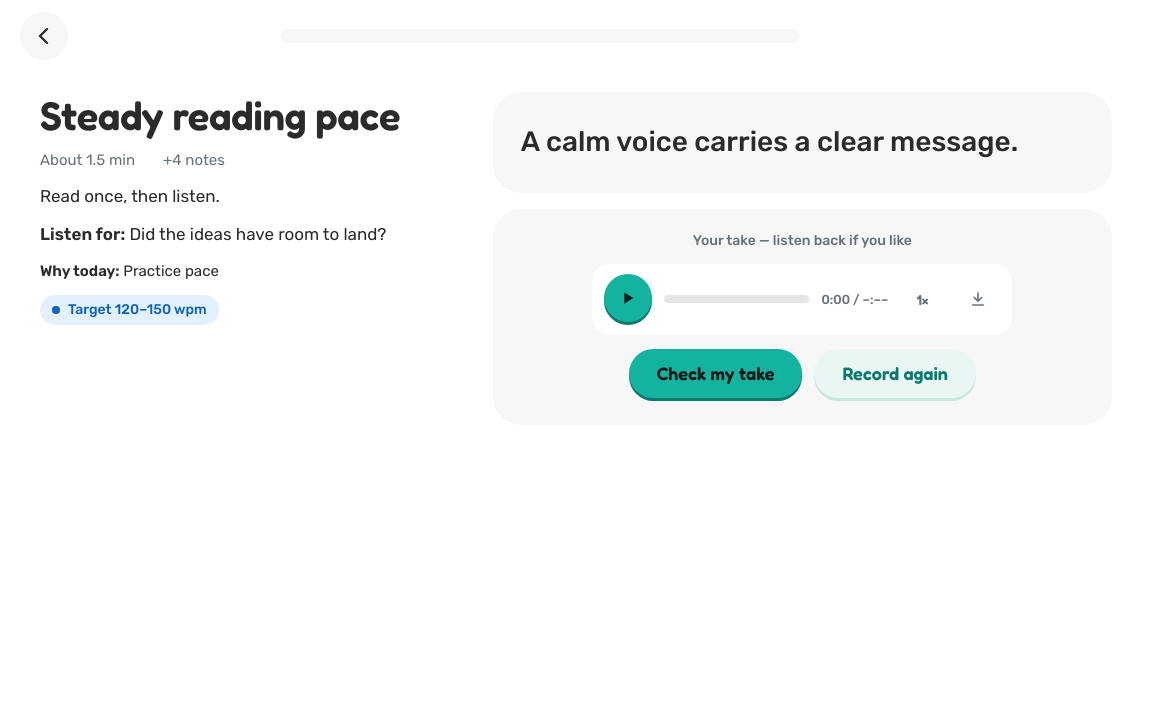
Scenario: a failed attempt submission reuses the checked take and idempotency key
Click the button "Check my take".
click(716, 373)  # box [629,349,802,398]
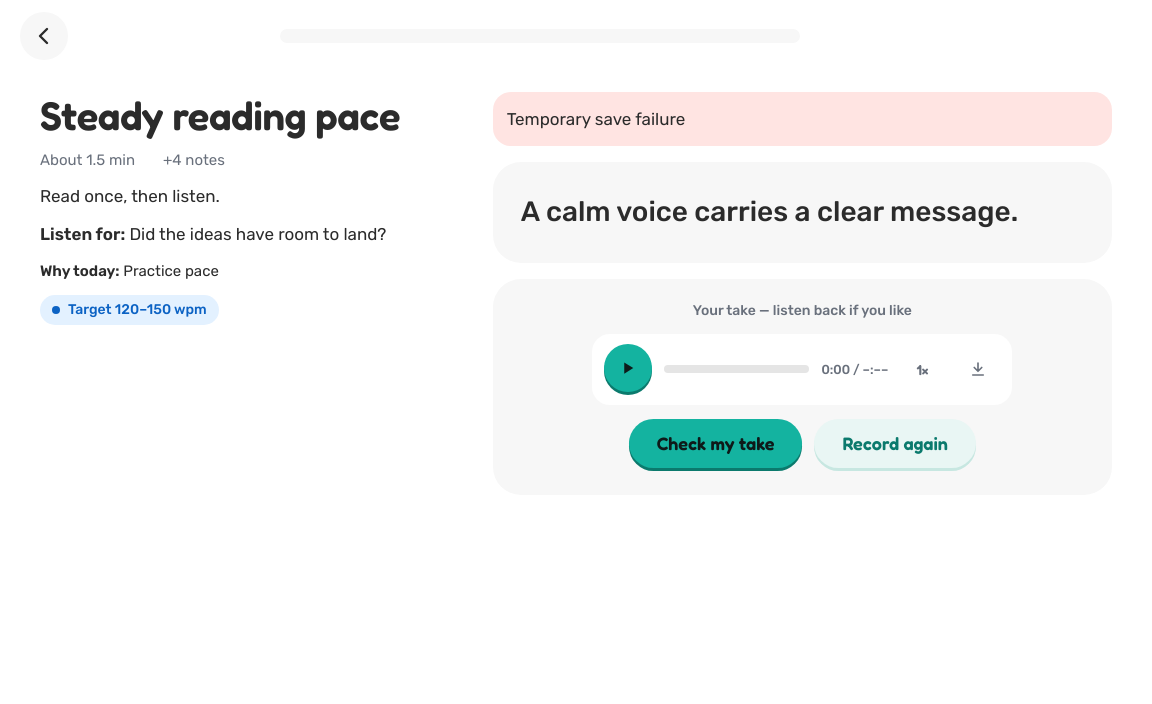
Expected: the text "Temporary save failure" is shown, [507,106,685,132]
Click the button "Check my take".
click(716, 443)  # box [629,419,802,468]
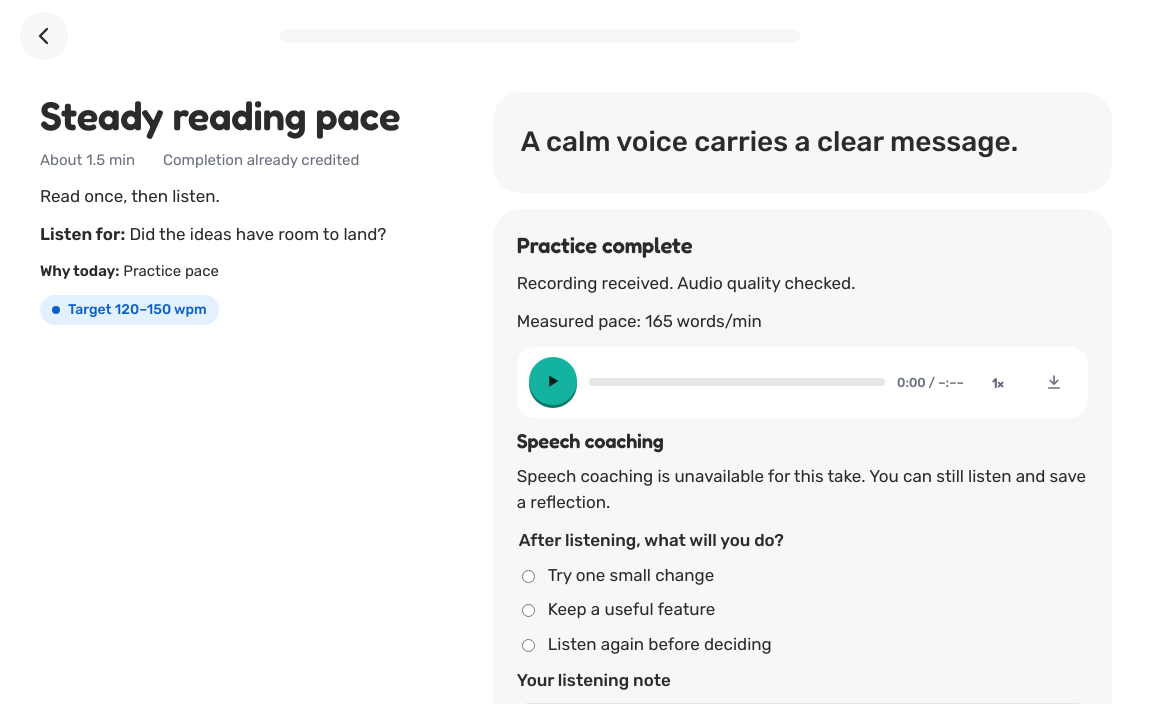
Expected: the text "Measured pace: 165 words/min" is shown, [517,311,762,331]
